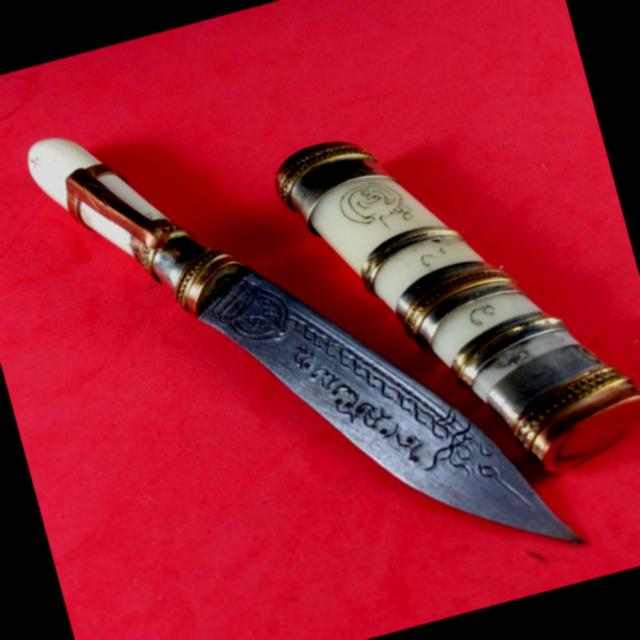short sword: (16, 17, 640, 640)
